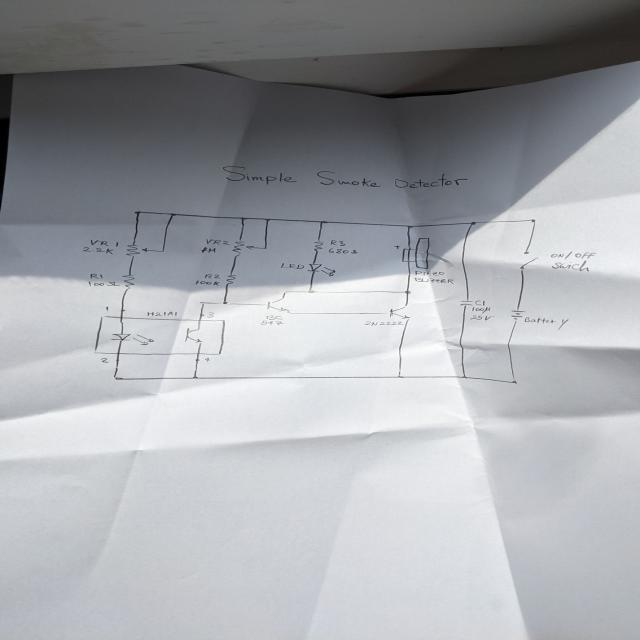capacitor: (458, 299, 475, 307)
diode: (305, 262, 337, 277)
junction: (111, 374, 123, 380), (218, 300, 232, 305), (507, 378, 518, 384), (306, 289, 317, 294), (402, 289, 412, 294), (468, 220, 477, 225), (529, 218, 538, 223), (405, 224, 414, 229), (198, 301, 208, 305), (190, 375, 200, 379), (395, 374, 405, 378), (459, 375, 469, 379), (132, 210, 142, 214), (238, 216, 248, 220), (263, 217, 271, 222), (318, 220, 328, 224), (168, 212, 177, 216), (262, 247, 269, 250), (282, 290, 288, 293), (286, 311, 292, 314), (160, 250, 165, 252)
resistor: (230, 239, 255, 257), (124, 243, 149, 258), (120, 274, 136, 290), (310, 239, 324, 252), (224, 274, 237, 286)
source: (509, 309, 526, 321)
switch: (518, 250, 542, 271)
text: (221, 165, 469, 189), (522, 316, 569, 330), (549, 260, 590, 272), (549, 250, 597, 260), (412, 277, 455, 285), (89, 238, 119, 248), (81, 246, 113, 255), (86, 280, 122, 288), (327, 247, 358, 254), (362, 321, 404, 326), (279, 262, 305, 270), (146, 311, 178, 317), (194, 279, 220, 286), (204, 238, 230, 245), (414, 270, 444, 276), (470, 306, 490, 314), (468, 314, 494, 320), (259, 320, 284, 326), (200, 246, 216, 254), (329, 239, 346, 246), (88, 272, 105, 279), (203, 273, 221, 279), (264, 315, 282, 320), (474, 300, 486, 306), (205, 312, 215, 318), (99, 357, 109, 363), (202, 357, 212, 362), (103, 305, 110, 312)
transistor: (382, 304, 412, 320), (262, 297, 289, 311)
